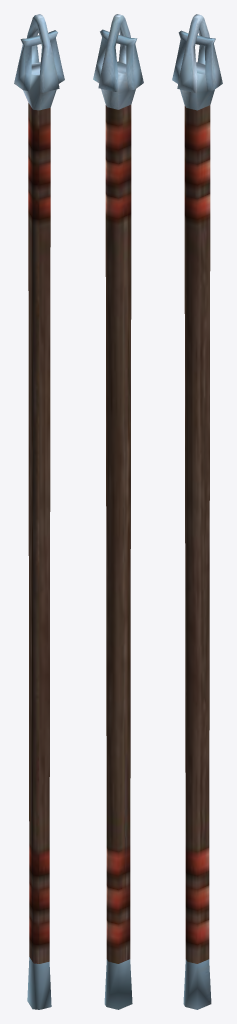
Rendered from weapons_fa_mse.glb.
3 renders of one model, left to right at view 1: azimuth 30°, elevation 25°; view 2: azimuth 150°, elevation 25°; view 3: azimuth 330°, elevation 25°, orthographic.
Visible parts, largest first — view 1: fa_mse; view 2: fa_mse; view 3: fa_mse.
Boxes of the visible parts, x1=… form: fa_mse: x1=14, y1=14, x2=64, y2=1009; fa_mse: x1=93, y1=14, x2=143, y2=1009; fa_mse: x1=172, y1=14, x2=222, y2=1009.
Size of the model in its own units: 0.075 by 1.69 by 0.0761.
Materials: 1 (1 with a texture image).
